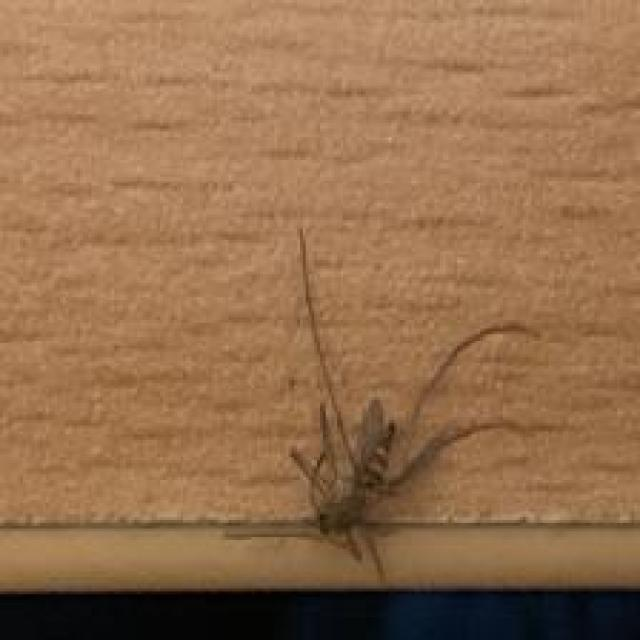Culex: (221, 225, 556, 584)
